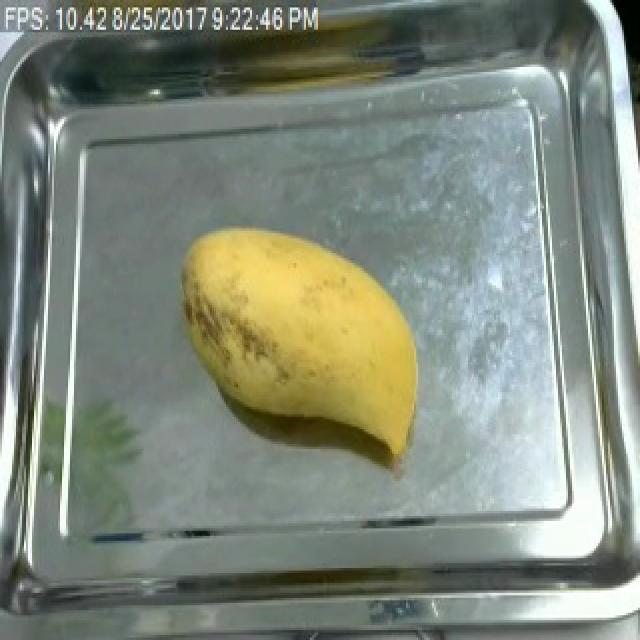fruit: (170, 211, 434, 441)
